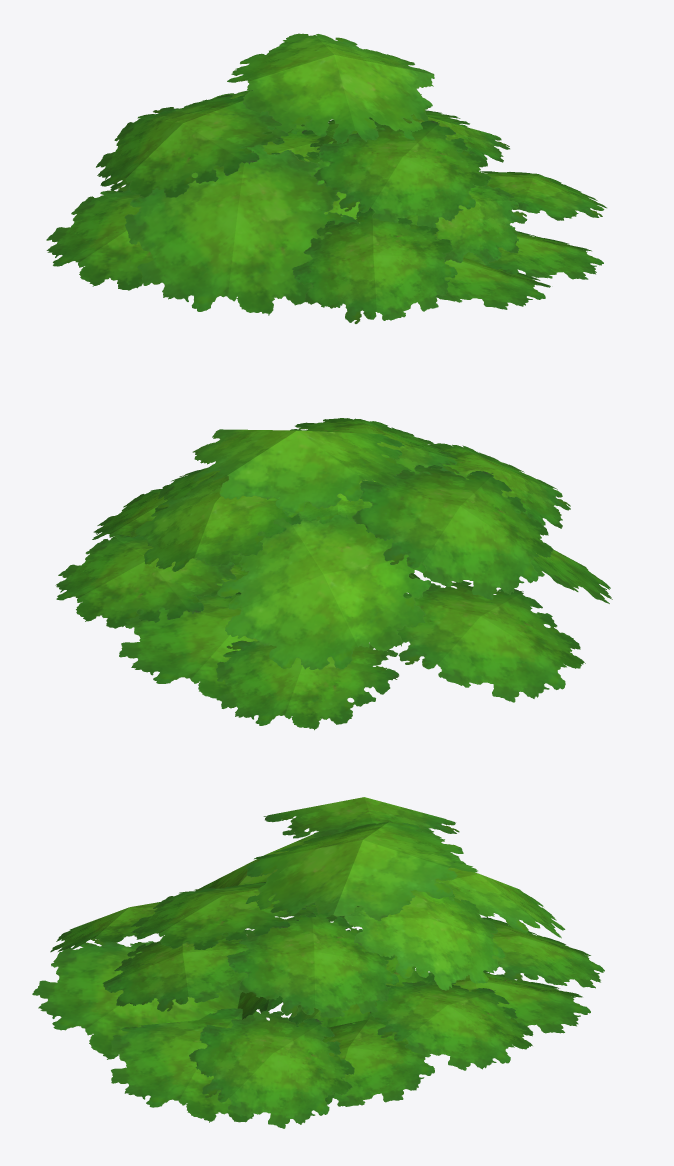
The model's file is wudaohui_guanmu.FBX.
3 renders of one model, top to bottom at view 1: azimuth 30°, elevation 25°; view 2: azimuth 150°, elevation 25°; view 3: azimuth 270°, elevation 25°, orthographic. The views are drawn at different scales.
Visible parts, largest first — view 1: wudaohui_guanmu; view 2: wudaohui_guanmu; view 3: wudaohui_guanmu.
Boxes of the visible parts, x1,y1,x2,y2 form: wudaohui_guanmu: (46,33,606,323); wudaohui_guanmu: (55,418,612,730); wudaohui_guanmu: (32,797,604,1128).
Bounding box in the file's own units: 562 × 207 × 545.
